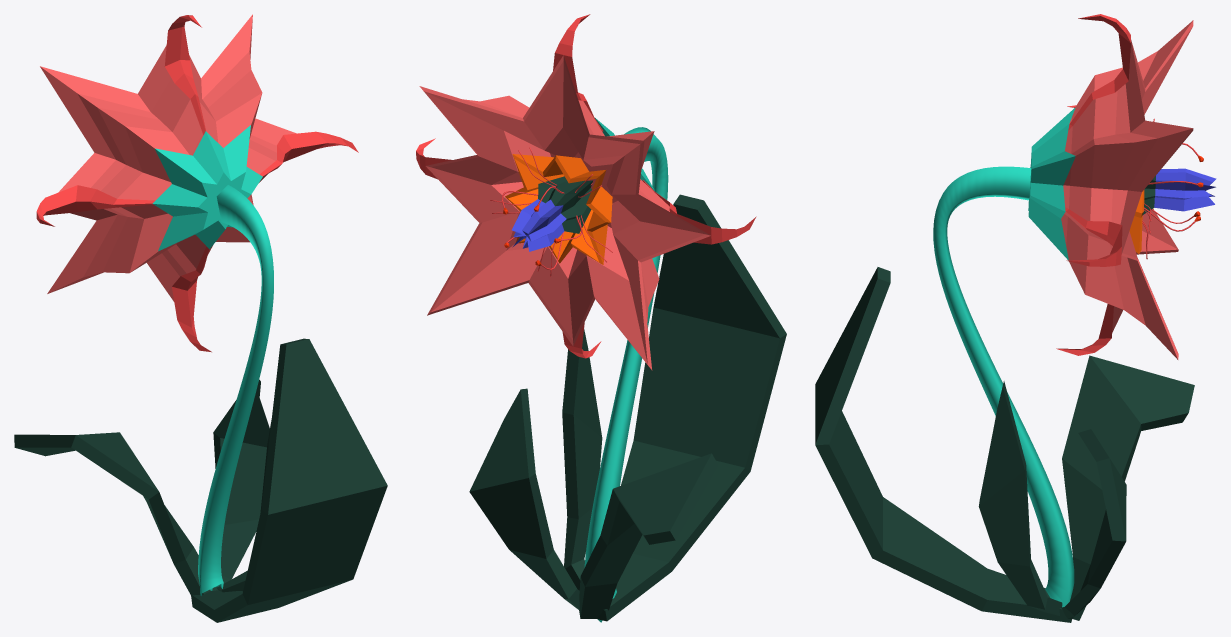
The model's file is st1_flower2.fbx.
The picture shows the model from 3 angles, left to right: view 1: azimuth 30°, elevation 25°; view 2: azimuth 150°, elevation 25°; view 3: azimuth 270°, elevation 25°; orthographic projection. The views are drawn at different scales.
Parts seen in each view (by area): view 1: 2_stem; view 2: 2_stem; view 3: 2_stem.
Boxes of the visible parts, x1,y1,x2,y2 form: 2_stem: (14, 14, 387, 622); 2_stem: (416, 14, 786, 622); 2_stem: (815, 14, 1216, 622).
Size of the model in its own units: 705 by 1254 by 754.
